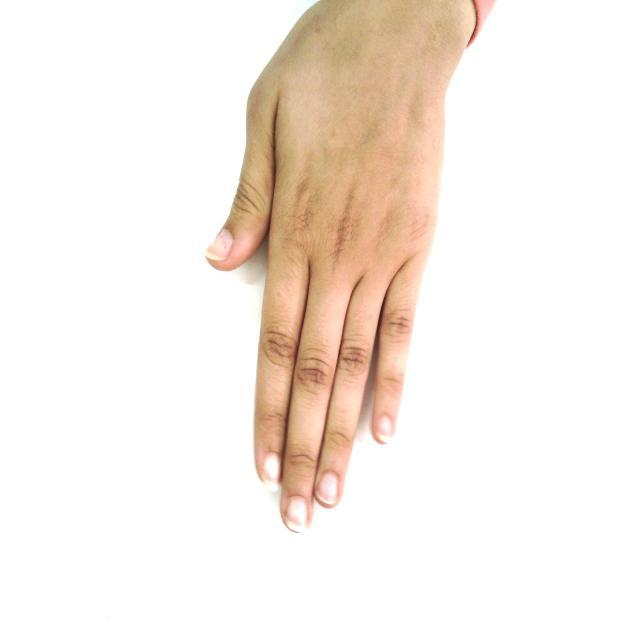Fingernail: (203, 229, 233, 259), (287, 496, 308, 532), (263, 455, 281, 492), (317, 473, 337, 504), (376, 416, 393, 443)
